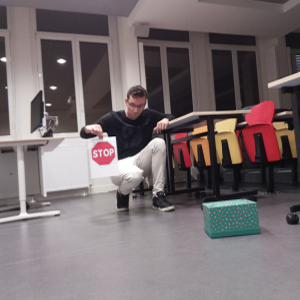stop: (91, 142, 116, 166)
